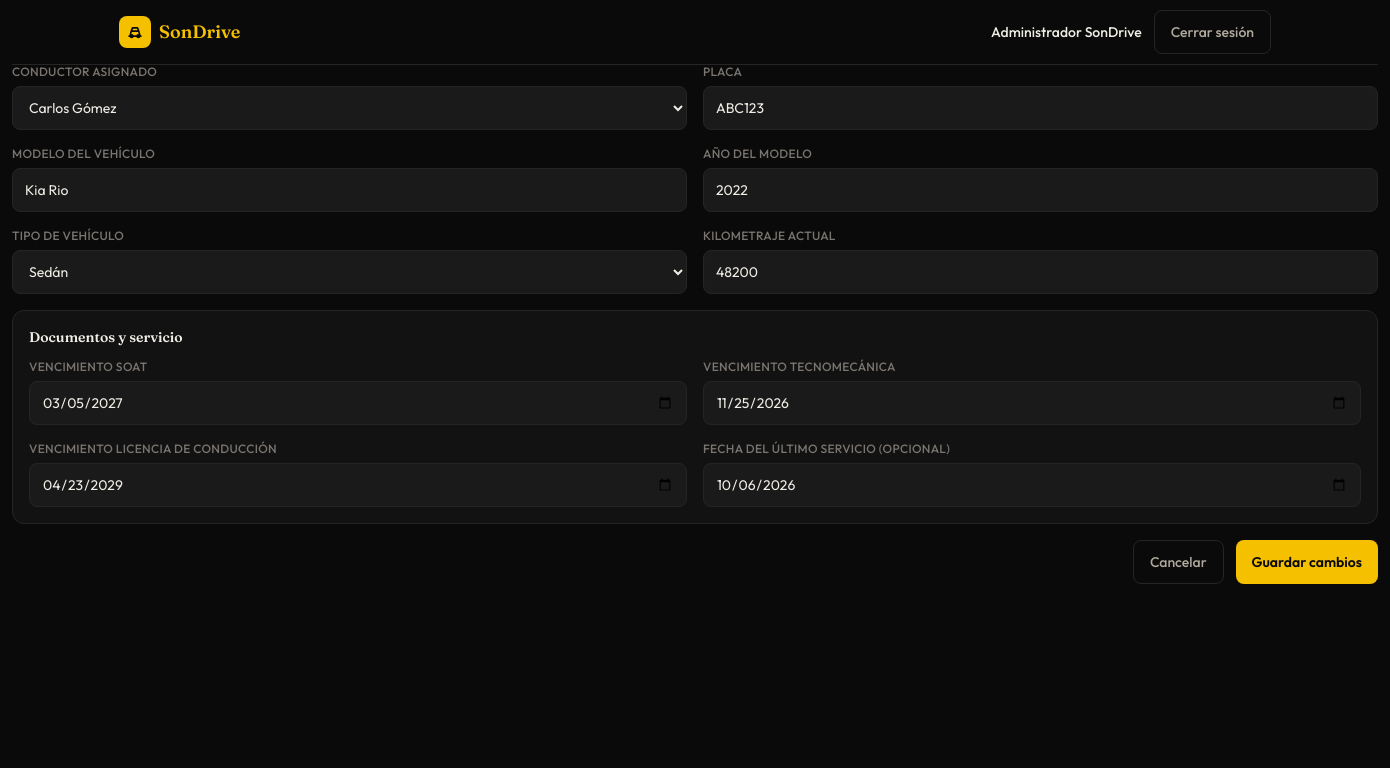
FormularioEditarVehiculo › conductor asignado › avisa cuando no se pudieron consultar los viajes próximos
Expected: the button "Guardar cambios" is enabled, [1236,540,1378,584]
Select "Laura Pérez" in the dropdown labelled "Conductor asignado" at point(350, 108), box [12,86,687,130]
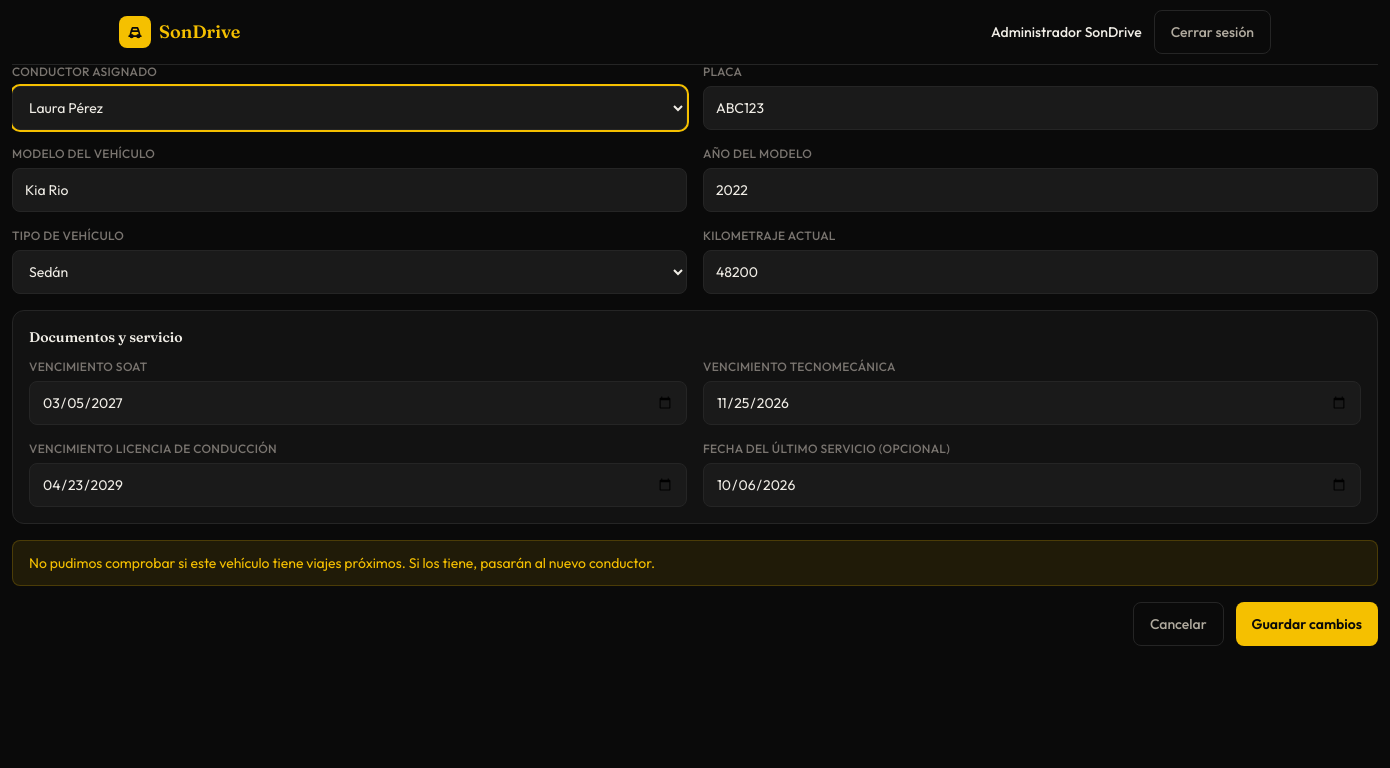
Expected: the button "Guardar cambios" is enabled, [1236,602,1378,646]
Now the text "No pudimos comprobar si este vehículo tiene viajes próximos. Si los tiene, pasarán al nuevo conductor." is shown, box [29,554,655,572]
